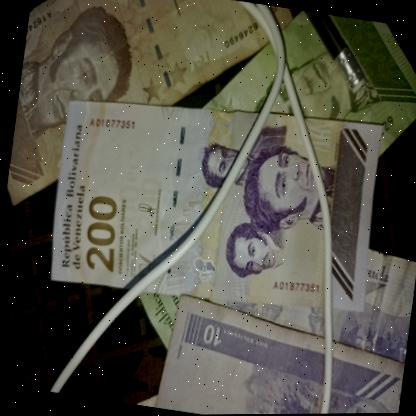fifty-front-vef: (102, 0, 416, 384)
five-front-vef: (0, 0, 303, 245)
ten-back-vef: (183, 212, 416, 372), (150, 291, 409, 415)
two_hundred-front-vef: (37, 75, 394, 329)
